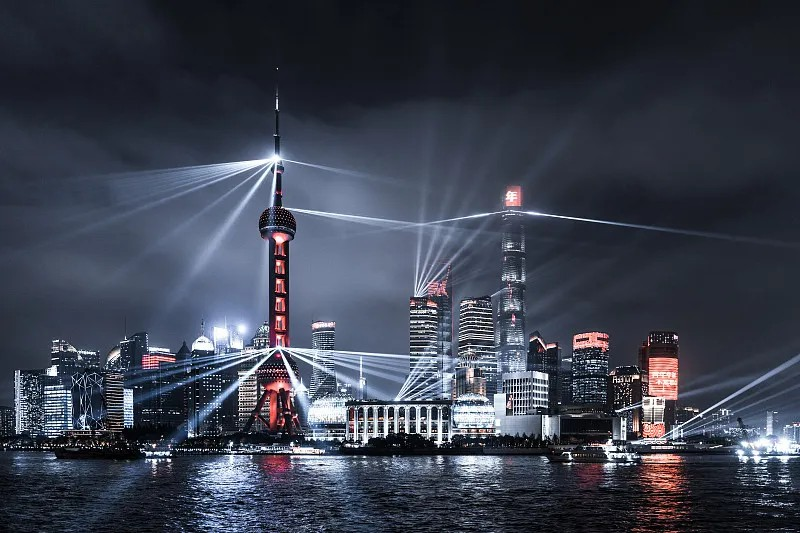Oriental: (241, 65, 301, 436)
